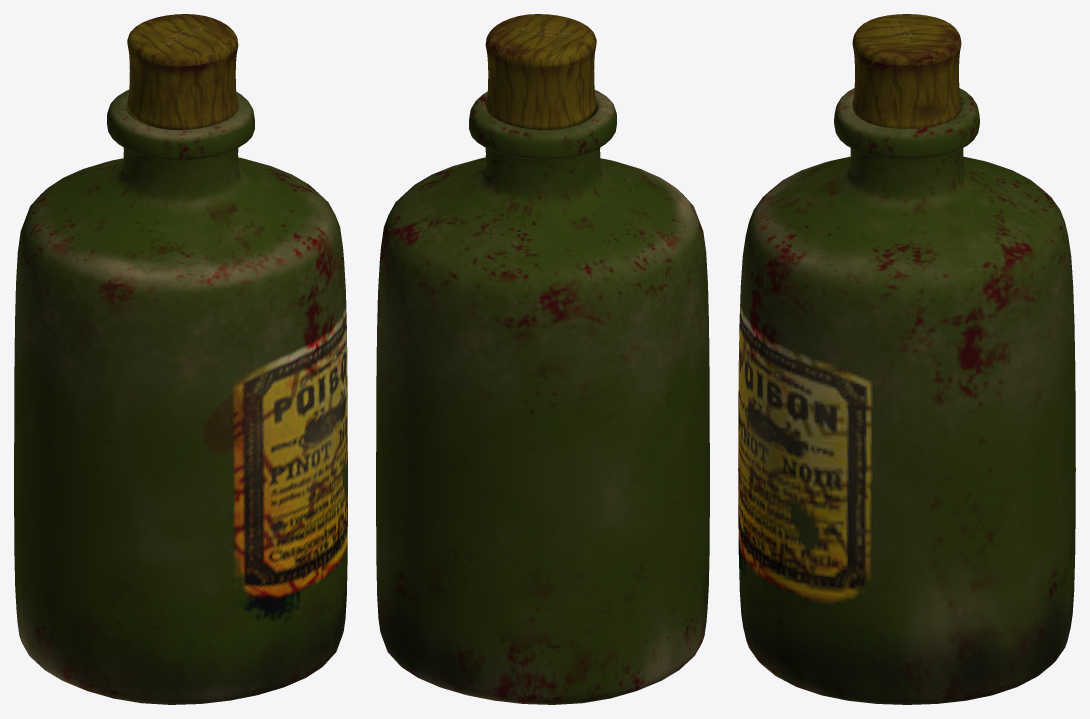
File: poison2.glb
3 renders of one model, left to right at view 1: azimuth 30°, elevation 25°; view 2: azimuth 150°, elevation 25°; view 3: azimuth 270°, elevation 25°, orthographic.
Visible parts, largest first — view 1: Cube, Cube.001; view 2: Cube, Cube.001; view 3: Cube, Cube.001.
Boxes of the visible parts, x1,y1,x2,y2 form: Cube: (14,90,347,704); Cube.001: (127,14,238,129); Cube: (376,90,709,704); Cube.001: (485,14,596,129); Cube: (738,88,1075,704); Cube.001: (852,14,961,128).
Size of what is drawn, in the model's own units: 0.3067 by 0.6153 by 0.3067.
Materials: 3 (2 with a texture image).
